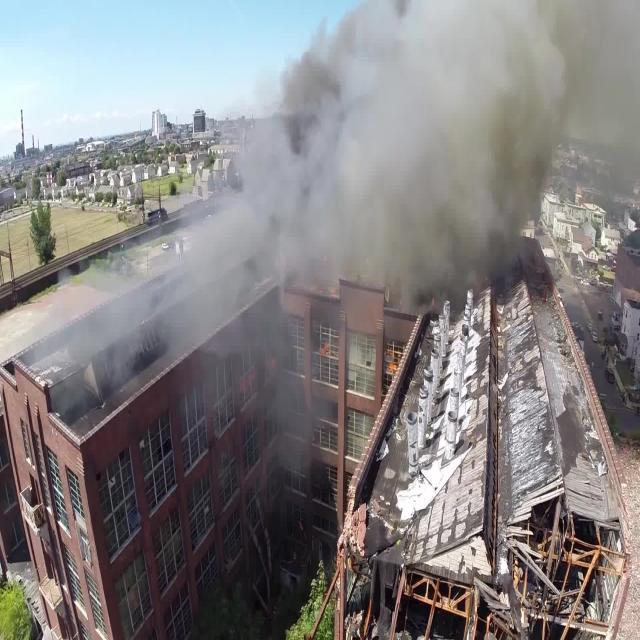Smoke: (72, 2, 638, 441)
